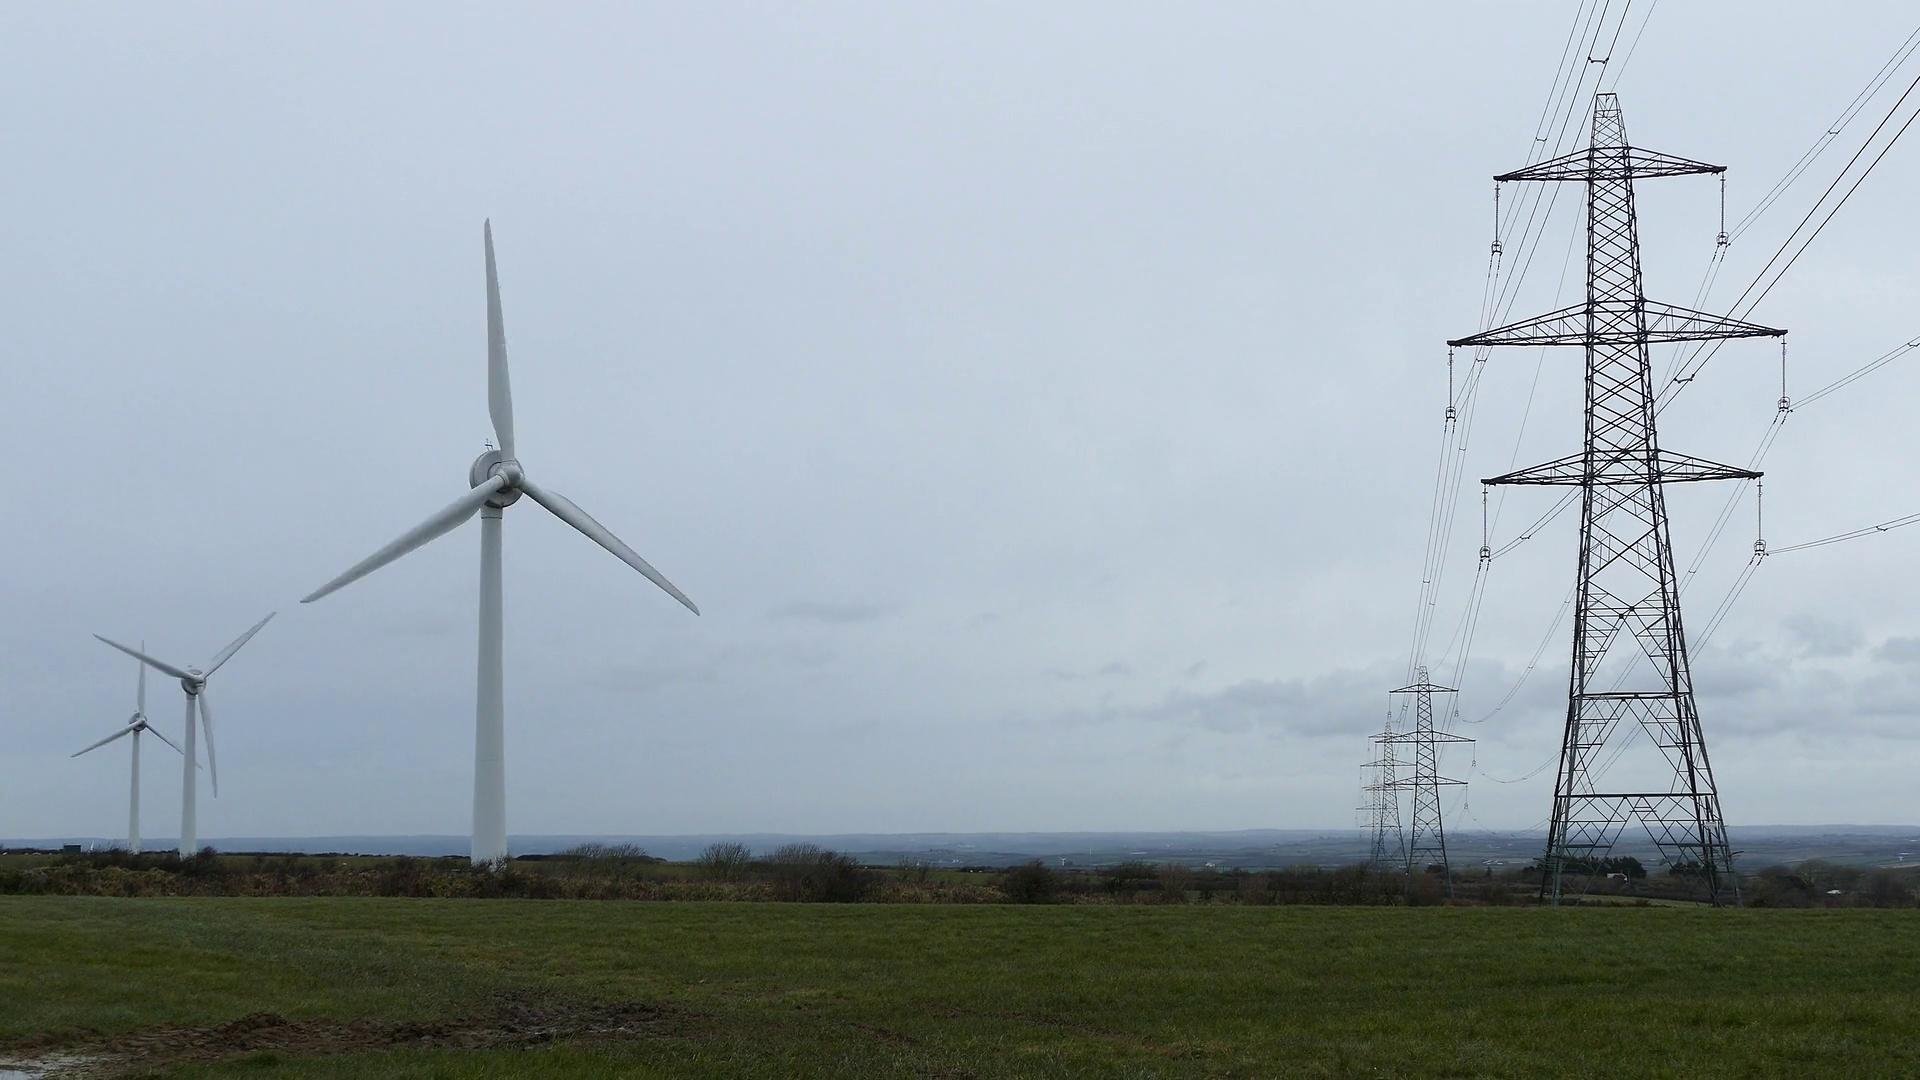cable tower: (1445, 88, 1788, 909), (1379, 667, 1476, 897), (1366, 719, 1418, 873), (1357, 789, 1395, 872)
turbine: (218, 175, 740, 949), (63, 579, 293, 918), (37, 633, 193, 887)
